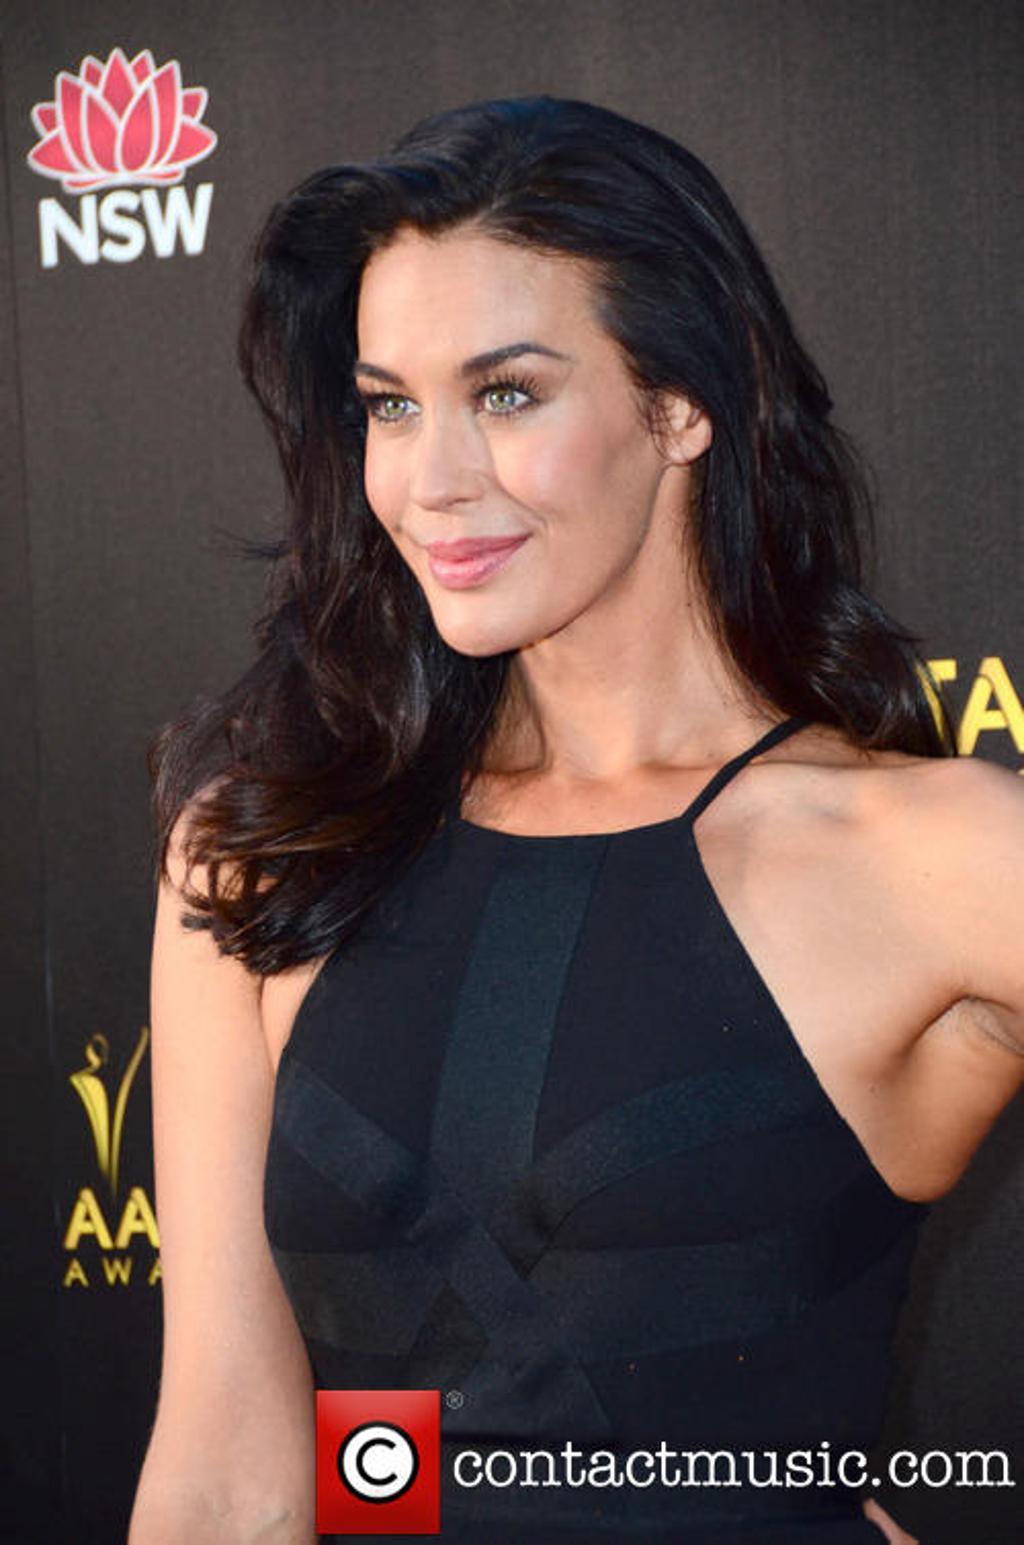face: (355, 223, 662, 657)
